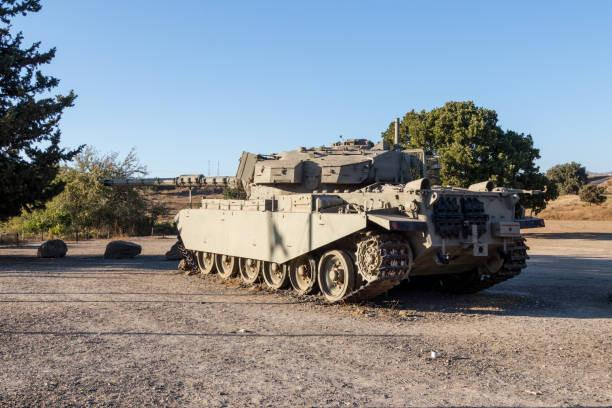tank: (105, 139, 526, 303)
